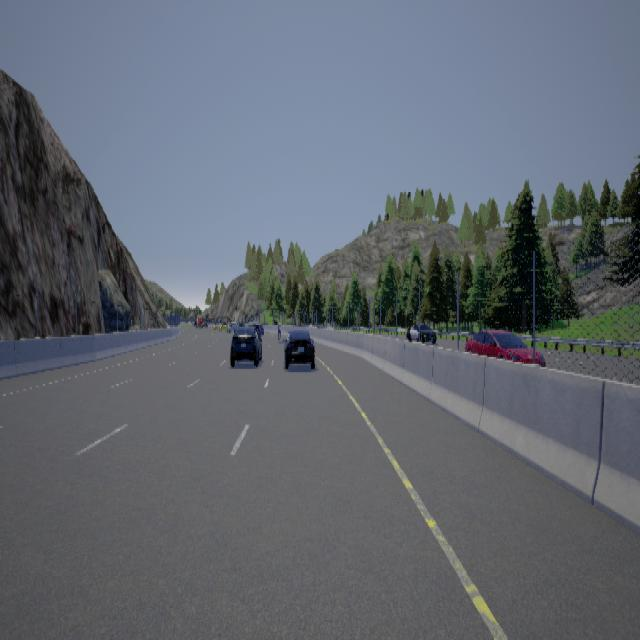vehicle: (466, 329, 534, 362), (220, 318, 265, 366), (283, 329, 316, 367), (405, 318, 439, 342)
